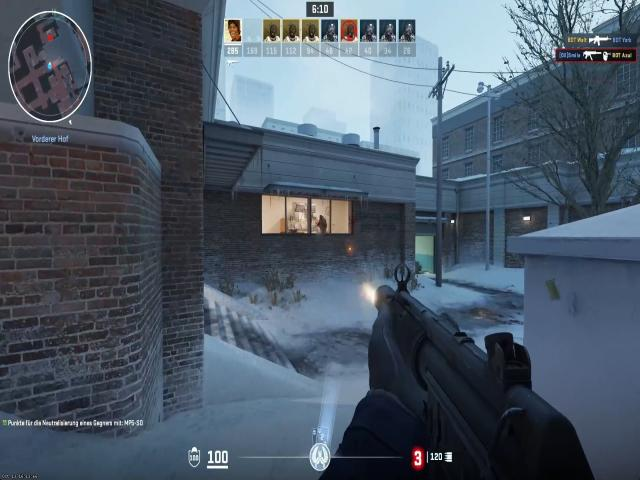CT: (318, 213, 327, 233), (320, 214, 324, 222)
